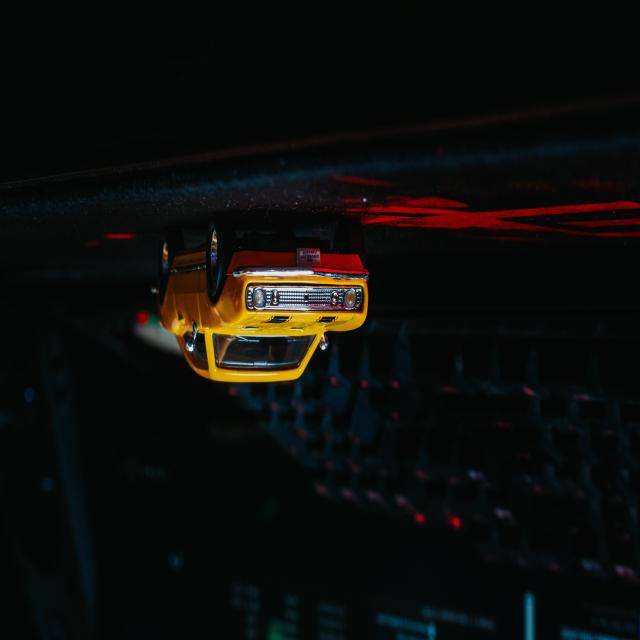Car: (157, 221, 369, 382)
